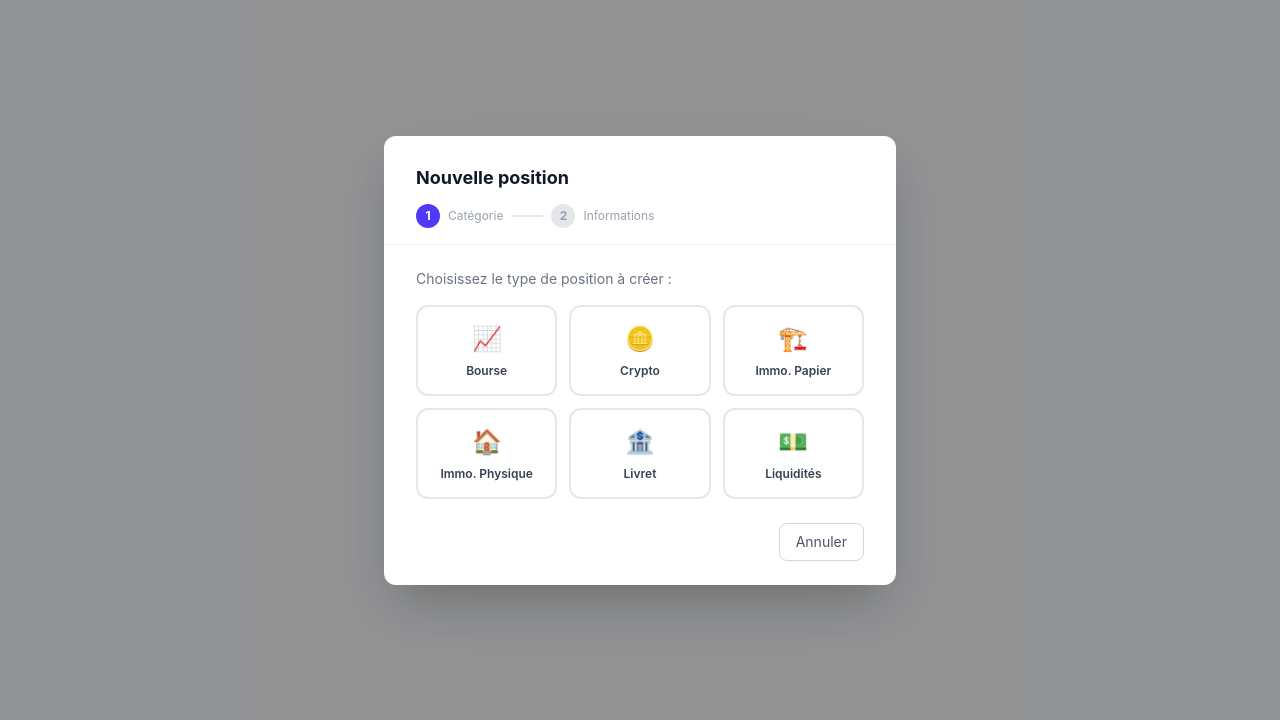
Test case: PositionForm — wizard 2 étapes › passe à l'étape 2 après sélection d'une catégorie
The image size is (1280, 720).
Step 1. Click the text "Livret" → (640, 473), box [624,466,656,480]
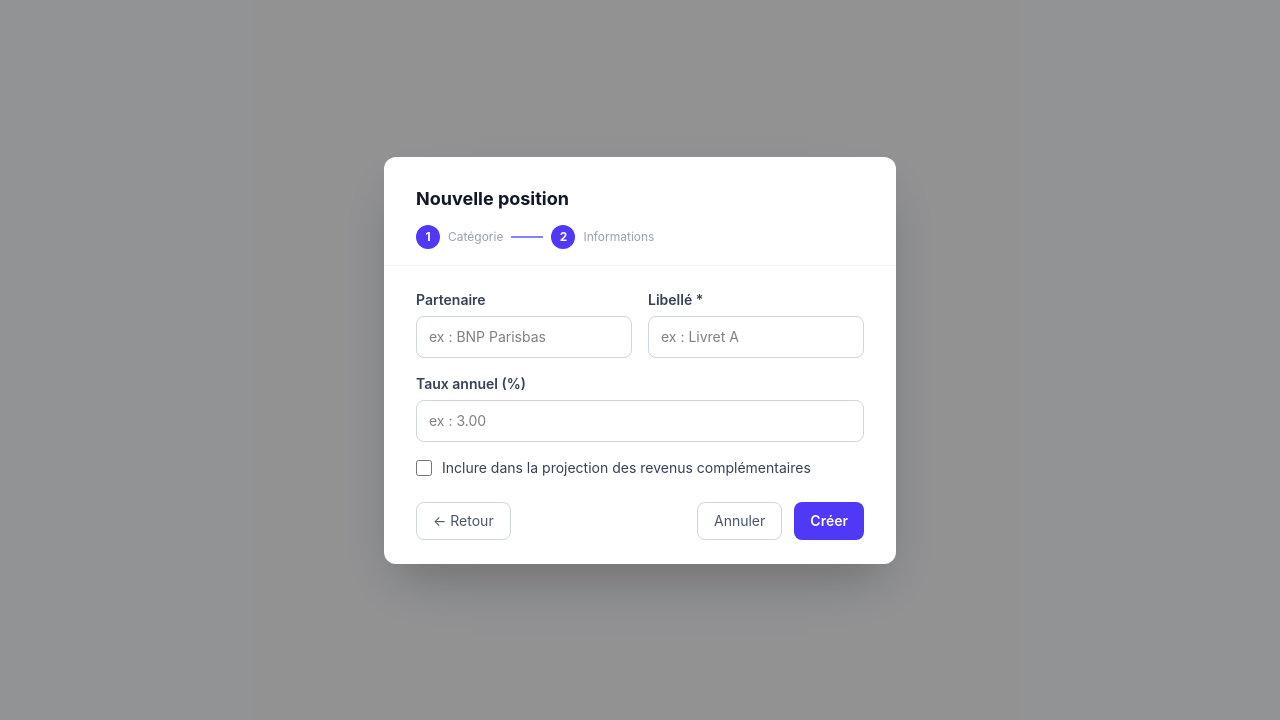
Now the text "Choisissez le type de position à créer :" is gone
